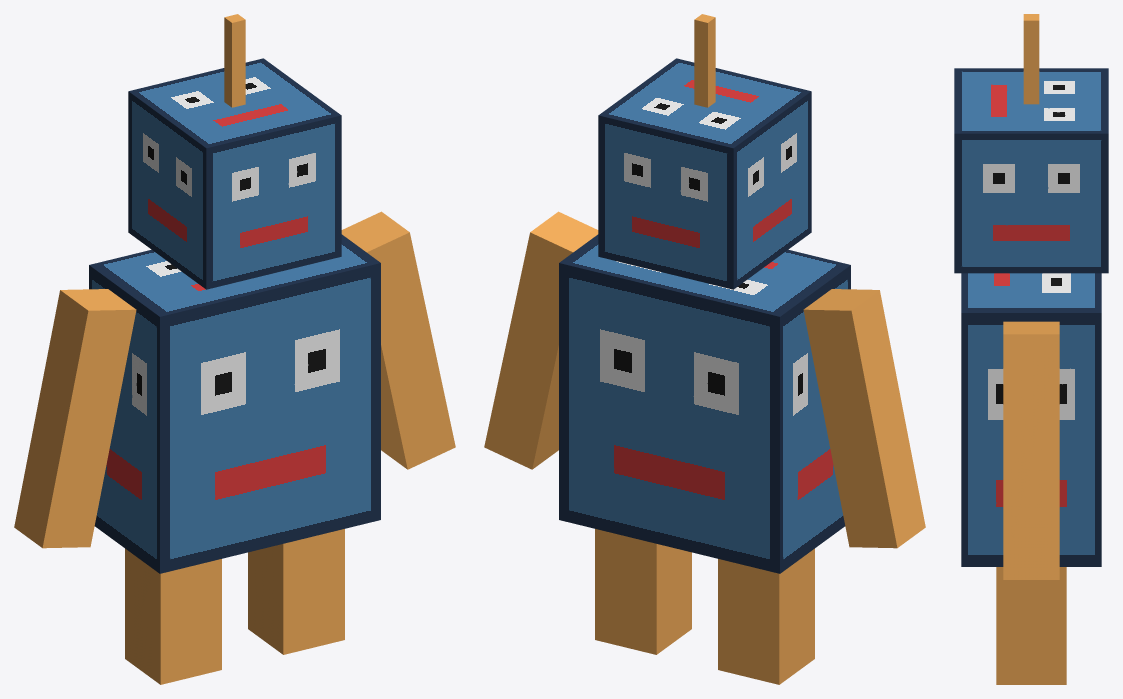
File: robot.gltf
3 renders of one model, left to right at view 1: azimuth 30°, elevation 25°; view 2: azimuth 150°, elevation 25°; view 3: azimuth 270°, elevation 25°, orthographic.
Parts seen in each view (by area): view 1: Body, Head, ArmL, ArmR, LegL, LegR, Antenna; view 2: Body, Head, ArmL, ArmR, LegL, LegR, Antenna; view 3: Head, Body, ArmR, LegR, Antenna.
Part boxes in pixels (left/top/right/bottom): Body: left=89, top=234, right=380, bottom=573; Head: left=128, top=58, right=341, bottom=289; ArmL: left=14, top=289, right=136, bottom=548; ArmR: left=341, top=211, right=455, bottom=469; LegL: left=125, top=548, right=221, bottom=684; LegR: left=248, top=529, right=344, bottom=654; Antenna: left=224, top=14, right=245, bottom=107; Body: left=559, top=234, right=850, bottom=573; Head: left=598, top=58, right=811, bottom=289; ArmL: left=803, top=289, right=925, bottom=548; ArmR: left=484, top=211, right=598, bottom=469; LegL: left=718, top=548, right=814, bottom=684; LegR: left=595, top=529, right=691, bottom=654; Antenna: left=694, top=14, right=715, bottom=107; Head: left=954, top=68, right=1108, bottom=273; Body: left=961, top=273, right=1101, bottom=566; ArmR: left=1003, top=321, right=1059, bottom=579; LegR: left=996, top=567, right=1066, bottom=684; Antenna: left=1023, top=14, right=1039, bottom=104.
Size of the model in its own units: 1.68 by 2.46 by 0.55.
Materials: 2 (1 with a texture image).
